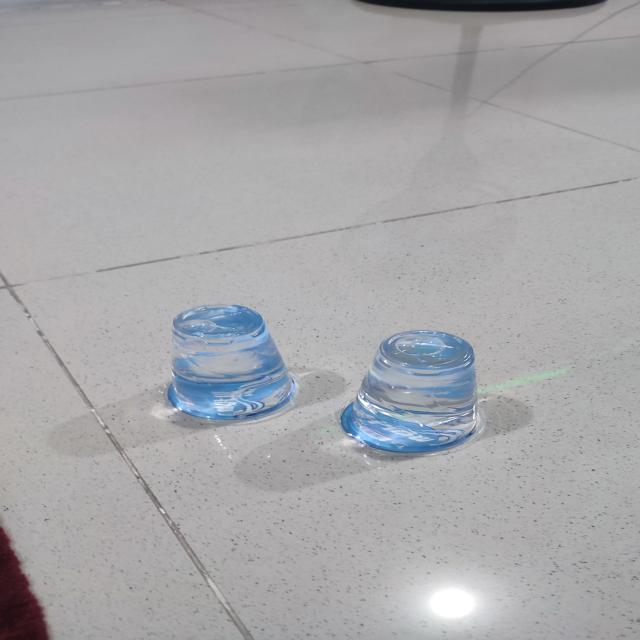air gelas: (338, 326, 490, 459), (145, 297, 309, 420)
